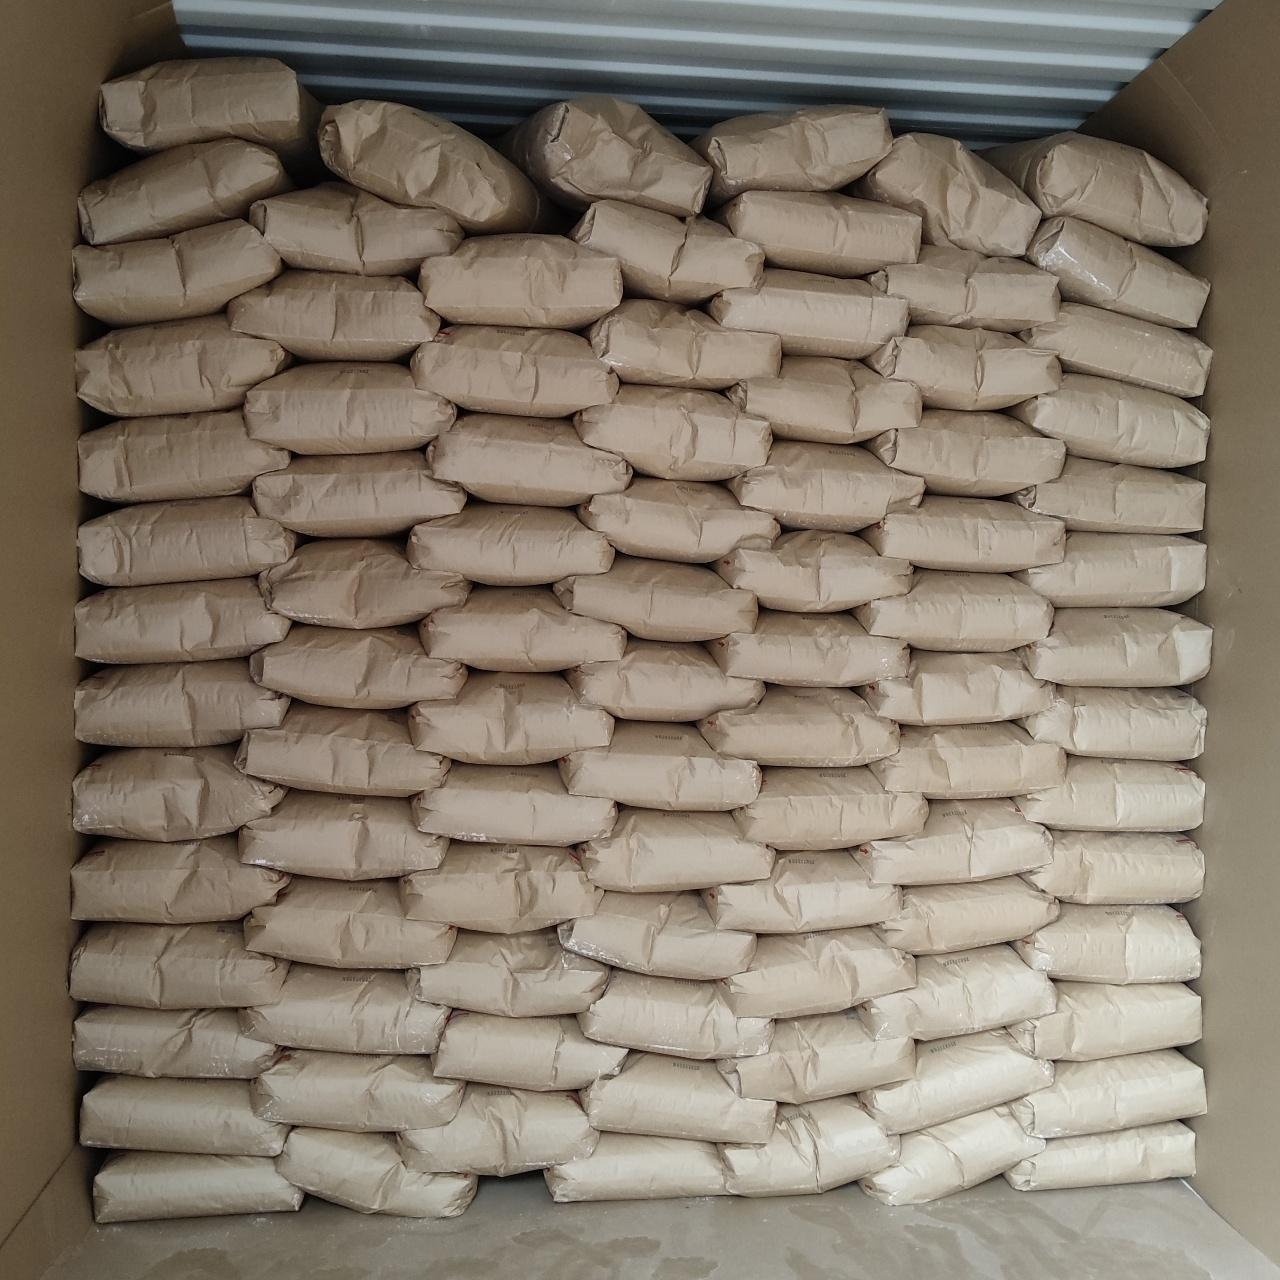sack: (320, 100, 550, 230), (986, 132, 1206, 246), (508, 96, 710, 215), (852, 134, 1039, 254), (80, 138, 292, 244), (102, 57, 318, 159), (74, 220, 280, 324), (79, 314, 292, 414), (250, 182, 462, 274), (1026, 218, 1206, 326), (74, 745, 284, 838), (862, 1030, 1051, 1132), (80, 496, 298, 583), (574, 202, 762, 302), (80, 410, 286, 502), (72, 836, 286, 922), (1008, 374, 1206, 468), (238, 704, 445, 794), (244, 365, 454, 452), (241, 964, 445, 1054), (230, 270, 438, 358), (246, 878, 454, 966), (574, 386, 770, 478), (422, 236, 622, 326), (240, 790, 445, 878), (411, 326, 617, 414), (1017, 302, 1210, 396), (860, 946, 1054, 1039), (402, 842, 600, 932), (692, 105, 890, 196), (72, 922, 286, 1006), (428, 414, 629, 502), (410, 672, 612, 760), (76, 578, 286, 662), (76, 660, 286, 744), (400, 1084, 595, 1175), (263, 540, 468, 626), (580, 1051, 774, 1142), (708, 268, 906, 356), (252, 626, 464, 708), (858, 1108, 1042, 1201), (588, 298, 779, 388), (719, 1012, 910, 1102), (728, 442, 922, 530), (254, 452, 462, 535), (280, 1128, 476, 1214), (714, 192, 918, 274), (560, 722, 758, 806), (580, 971, 770, 1058), (722, 1098, 894, 1194), (560, 892, 754, 978), (422, 588, 624, 670), (554, 556, 756, 638), (254, 1050, 462, 1130), (410, 502, 614, 583), (869, 244, 1058, 331), (726, 356, 918, 442), (411, 930, 606, 1014), (866, 410, 1062, 493), (82, 1076, 286, 1156), (580, 476, 778, 558), (722, 928, 912, 1014), (1010, 1050, 1204, 1133), (856, 799, 1046, 884), (414, 764, 614, 844), (580, 808, 774, 890), (700, 686, 896, 765), (704, 852, 898, 932), (566, 640, 762, 719), (866, 326, 1058, 406), (1010, 456, 1204, 535), (734, 768, 926, 846), (433, 1010, 626, 1088), (714, 532, 910, 608), (862, 496, 1062, 570), (76, 1006, 278, 1078), (710, 612, 908, 686), (855, 572, 1051, 646), (1022, 608, 1210, 686), (1014, 904, 1198, 982), (1010, 982, 1198, 1058), (862, 651, 1054, 724), (94, 1152, 302, 1220), (870, 724, 1062, 796), (1016, 535, 1204, 606), (1020, 686, 1204, 758), (878, 876, 1058, 949), (1016, 758, 1201, 830), (1006, 1122, 1194, 1190), (1022, 832, 1201, 903), (546, 1133, 726, 1198)
